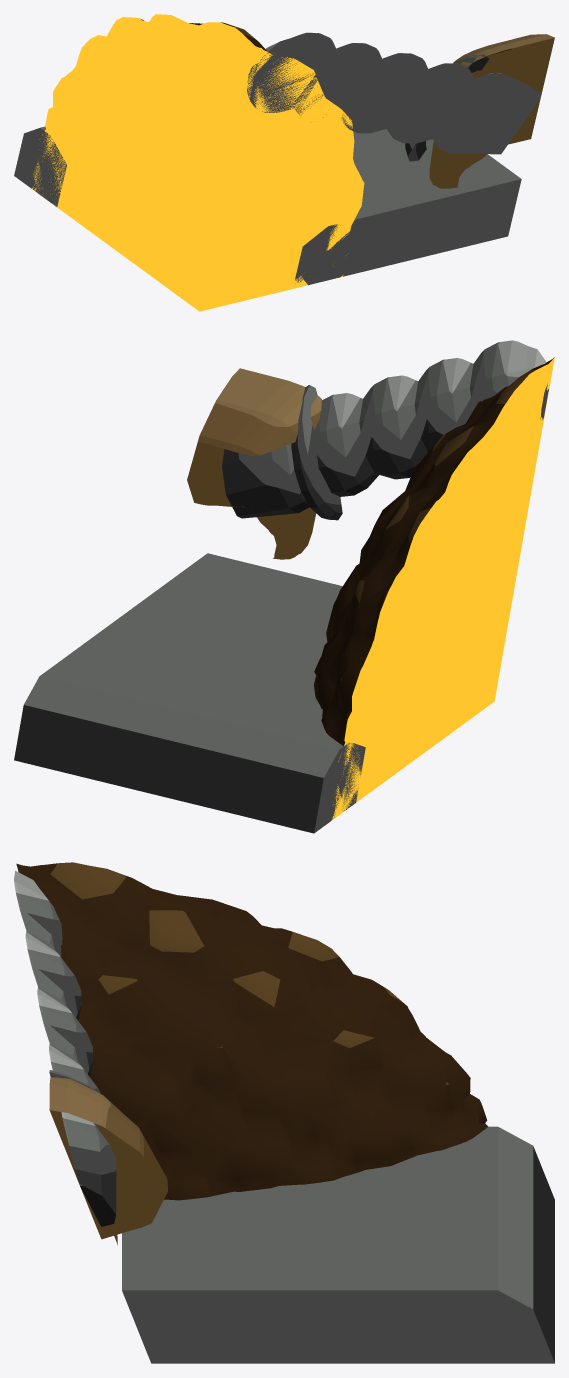
Rendered from pineapple_163.glb.
3 views of the same model, one above another, from view 1: azimuth 30°, elevation 25°; view 2: azimuth 150°, elevation 25°; view 3: azimuth 270°, elevation 25° (orthographic). The views are drawn at different scales.
Visible parts, largest first — view 1: pineapple_163; view 2: pineapple_163; view 3: pineapple_163.
Boxes of the visible parts, left/top/right/bottom form: pineapple_163: left=14, top=14, right=554, bottom=311; pineapple_163: left=14, top=340, right=554, bottom=833; pineapple_163: left=14, top=862, right=554, bottom=1363.
Bounding box in the file's own units: 24 × 23.36 × 33.5.
